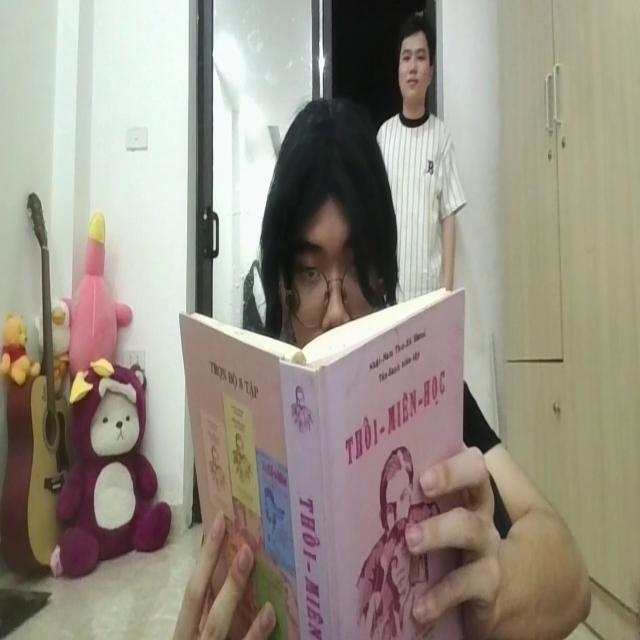book: (180, 286, 464, 640)
extra_person: (386, 29, 463, 298)
student: (266, 98, 397, 347)
